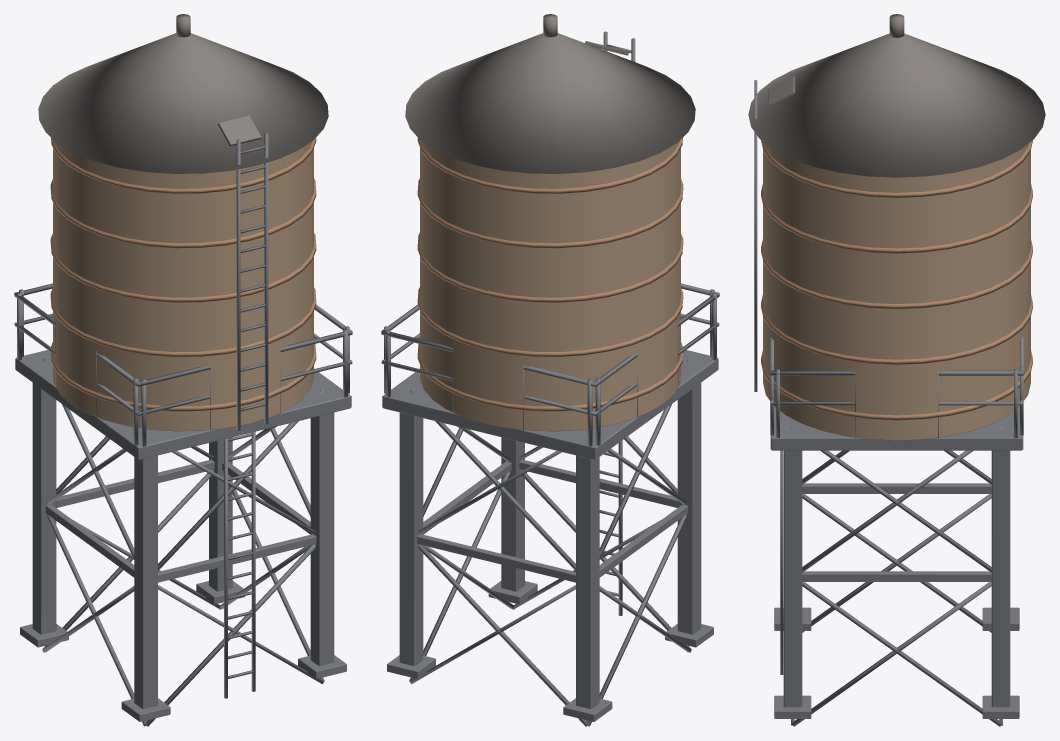
File: prop_water_tower.glb
3 views of the same model, side by side, from view 1: azimuth 30°, elevation 25°; view 2: azimuth 150°, elevation 25°; view 3: azimuth 270°, elevation 25° (orthographic). The views are drawn at different scales.
Parts seen in each view (by area): view 1: water_tower; view 2: water_tower; view 3: water_tower.
Boxes of the visible parts, box(x1,y1,x2,y2) form: water_tower: box(14, 14, 352, 726); water_tower: box(381, 14, 719, 726); water_tower: box(748, 14, 1045, 726).
Size of the model in its own units: 4 by 9.87 by 4.
